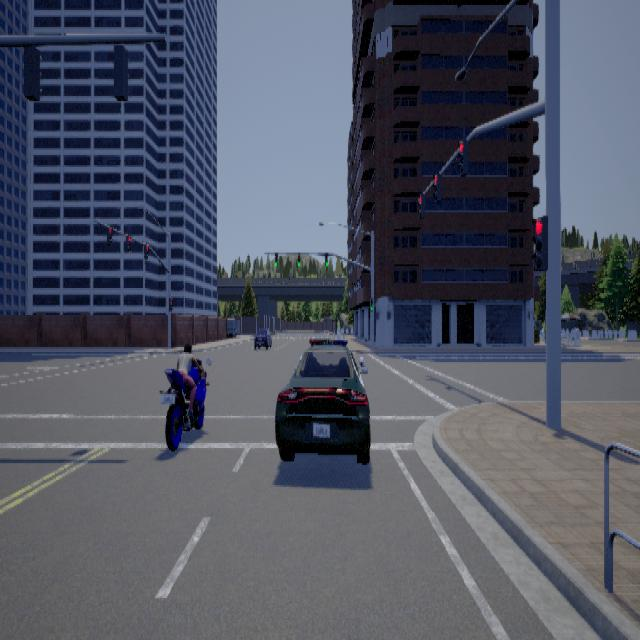green_light: (274, 252, 278, 265), (370, 297, 373, 311), (325, 252, 328, 266), (298, 253, 300, 266)
red_light: (531, 214, 547, 269), (457, 138, 467, 175), (432, 172, 440, 202), (417, 192, 424, 217), (106, 226, 112, 244), (125, 234, 130, 251), (143, 242, 148, 258), (168, 297, 172, 311)
vehicle: (274, 337, 370, 463), (158, 338, 212, 449), (252, 325, 273, 349)
